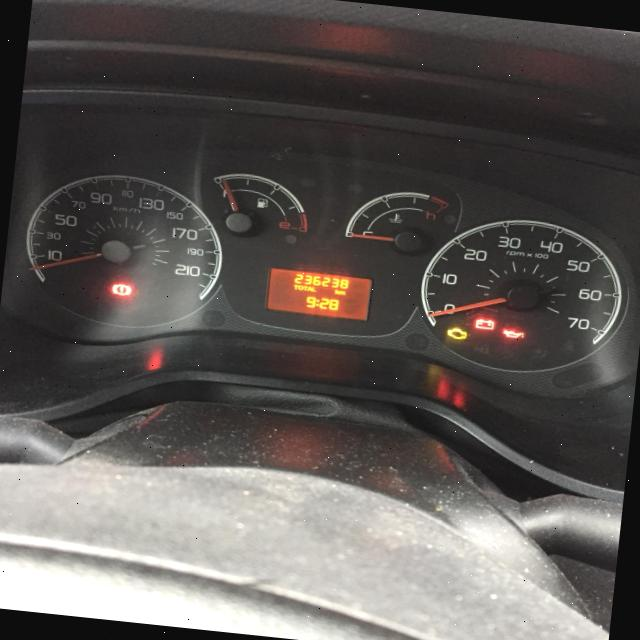odometer: (262, 266, 372, 322)
